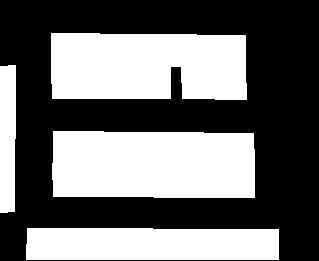parkingspot: (26, 228, 278, 259), (52, 163, 254, 197), (53, 131, 254, 164), (51, 33, 245, 67), (51, 67, 170, 98), (0, 65, 15, 212), (181, 66, 246, 99)
